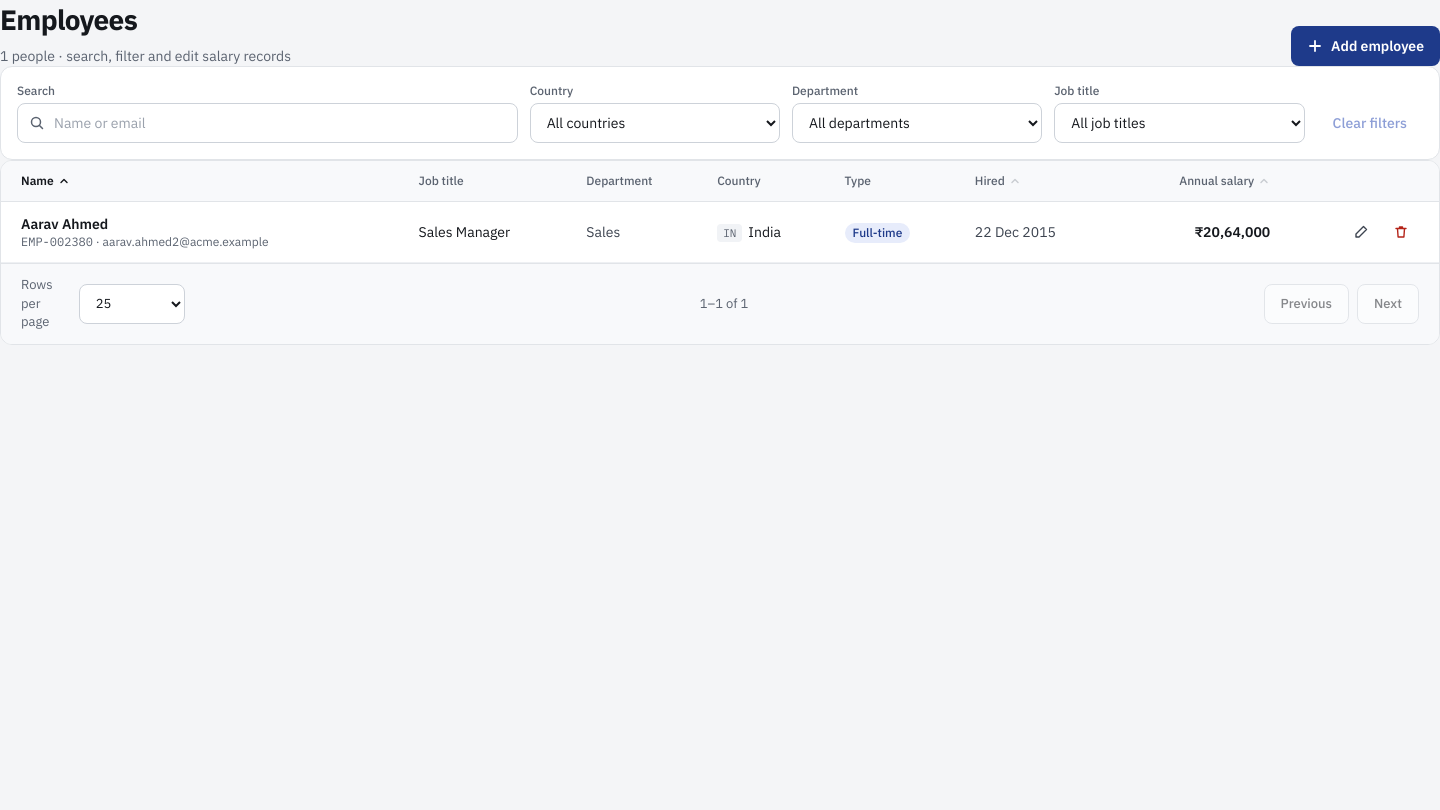
Test case: Employee form › checks the form before sending anything
Click the button "Add employee": (1366, 46) [1291,26,1439,66]
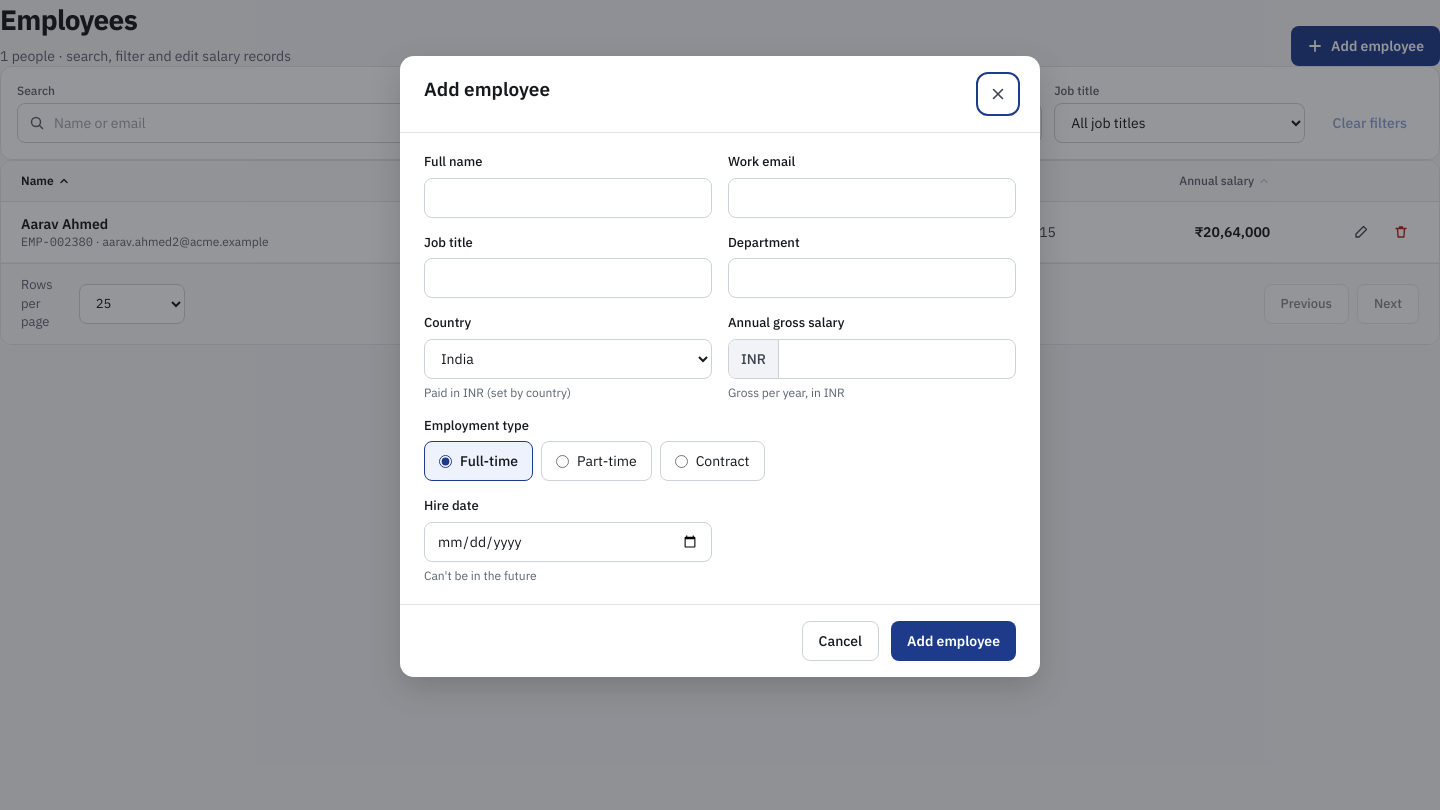
In the field labelled "Work email": (872, 198) [728,178,1016,218], type "not-an-email"
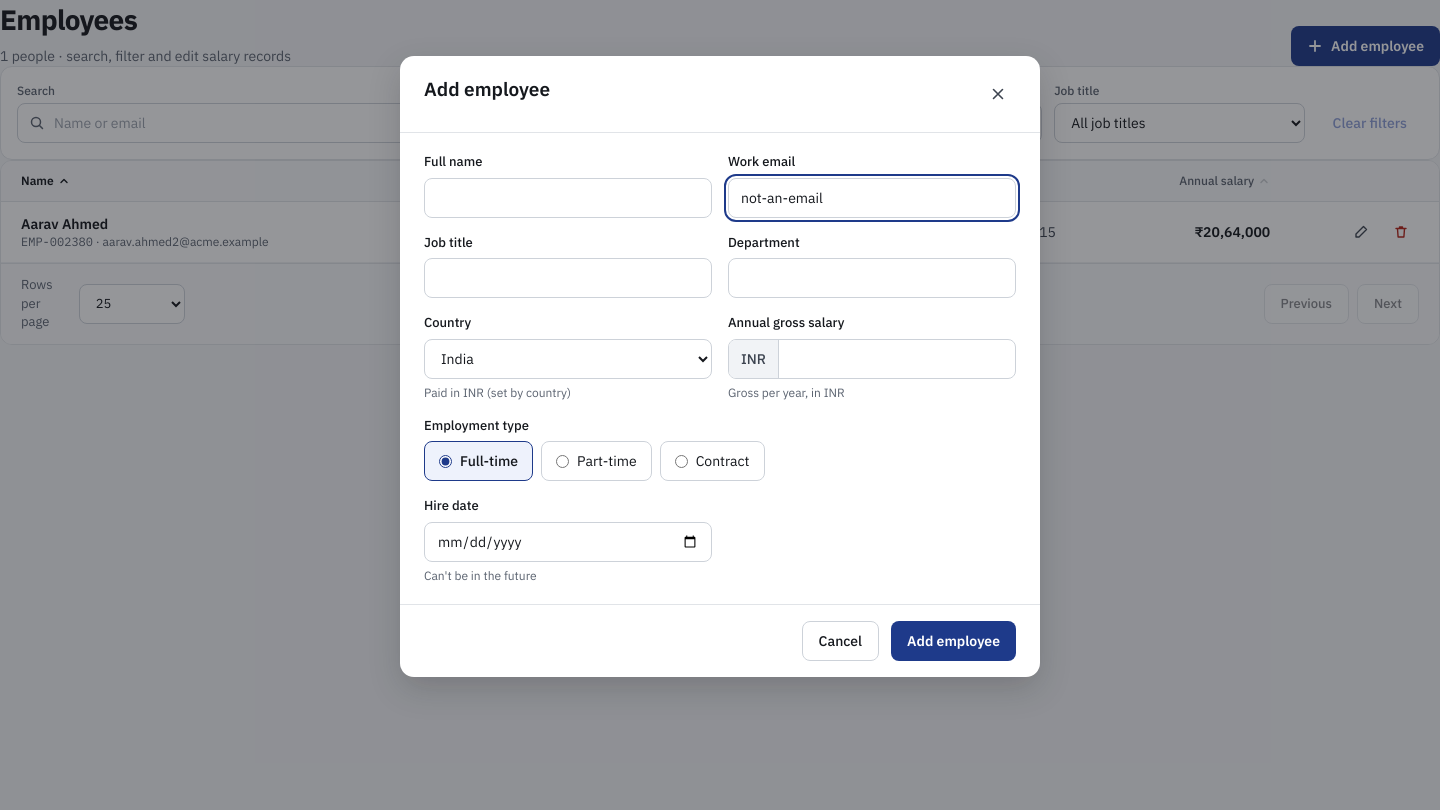
In the field labelled "Annual gross salary": (897, 359) [779,340,1015,378], type "lots"
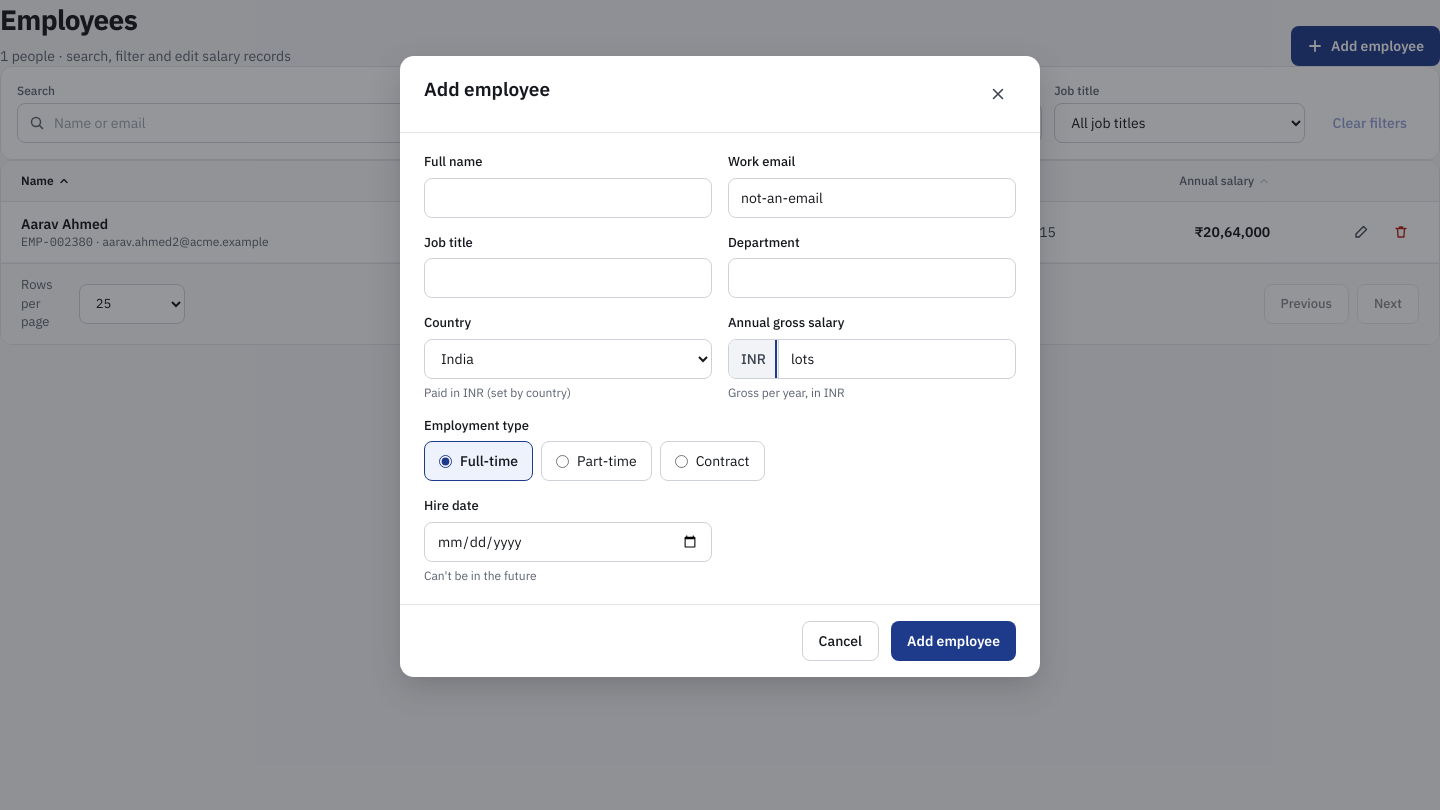
Click the button "Add employee": (954, 641) [891,621,1016,661]
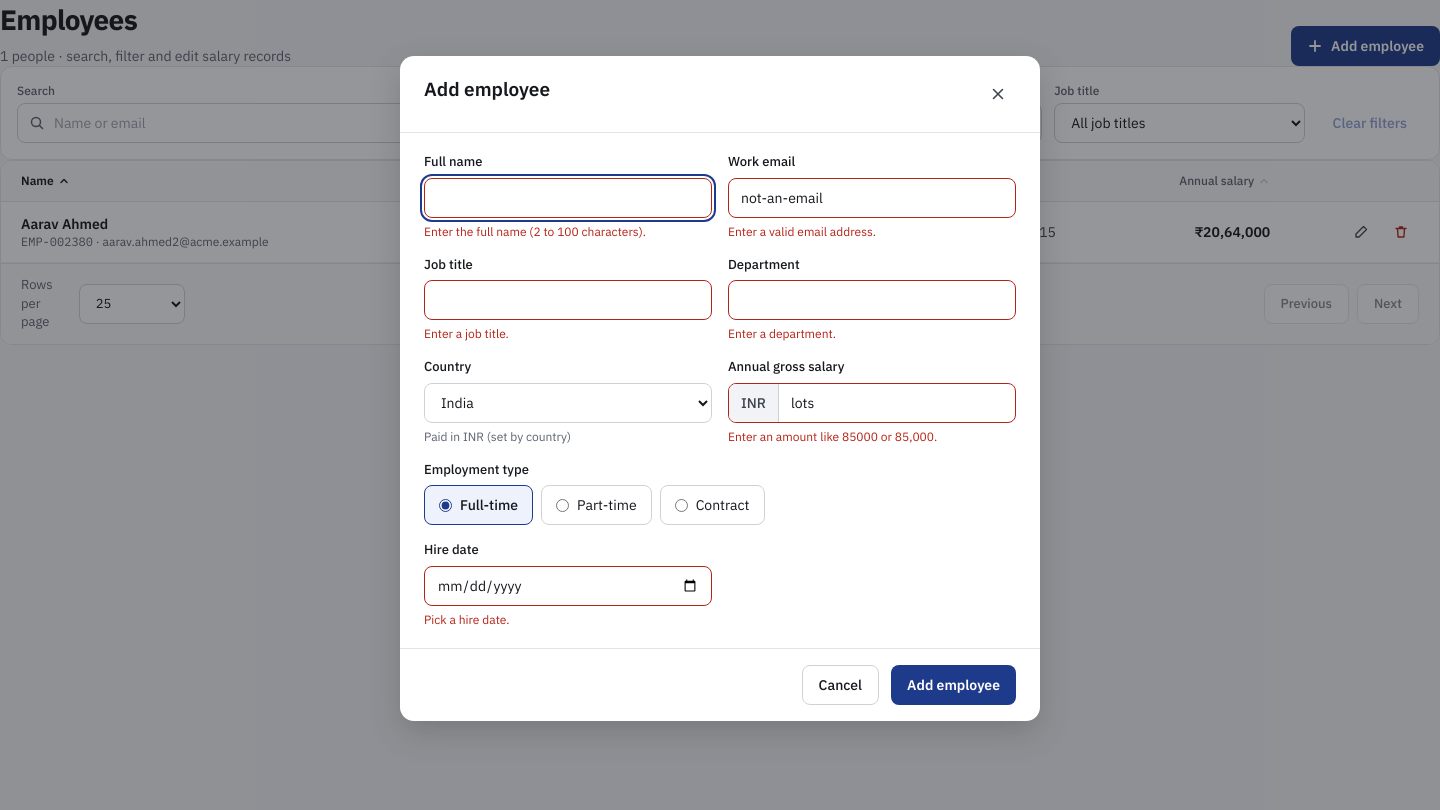
Now the text "Enter a valid email address." is shown, box [728,224,876,239]
Now the text "Enter an amount like 85000 or 85,000." is shown, box [728,429,937,444]
